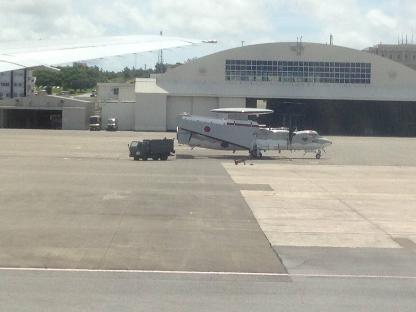C5: (177, 108, 332, 158)
